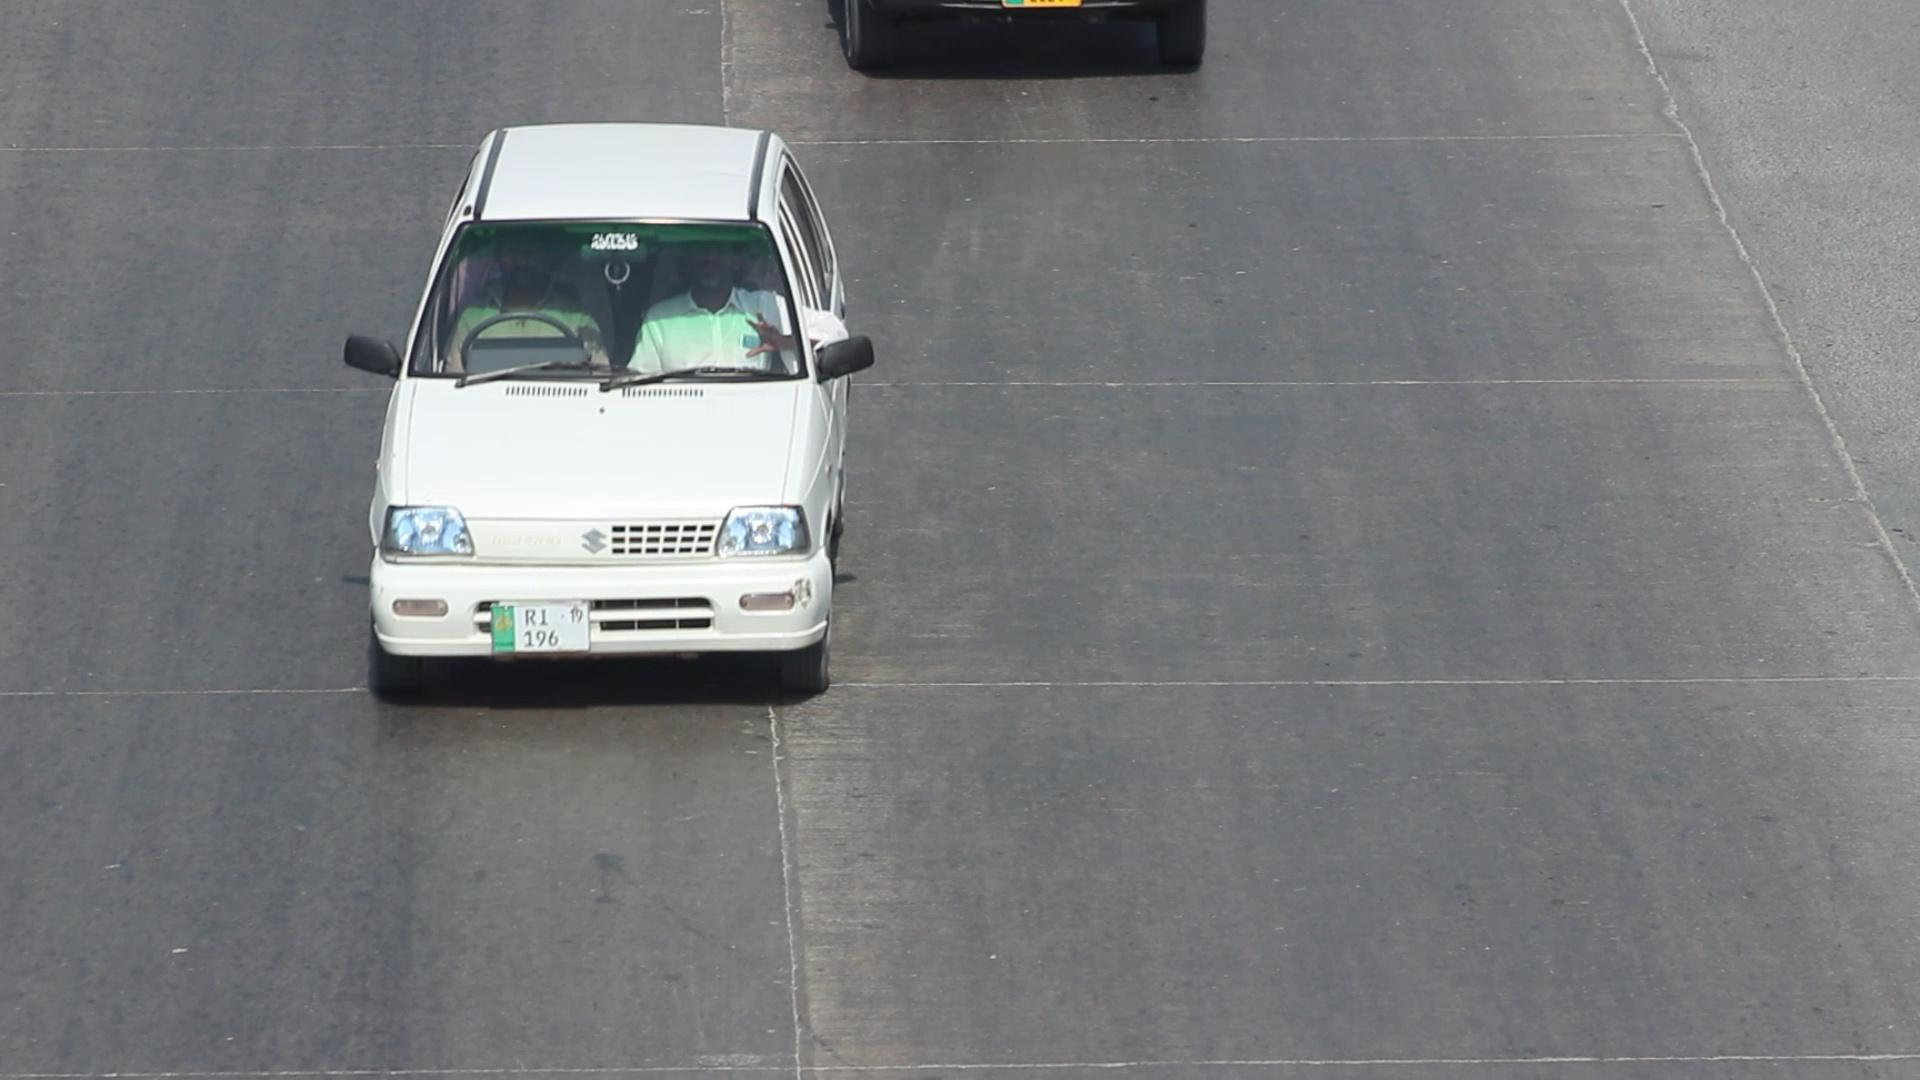windshield: (404, 200, 811, 390)
